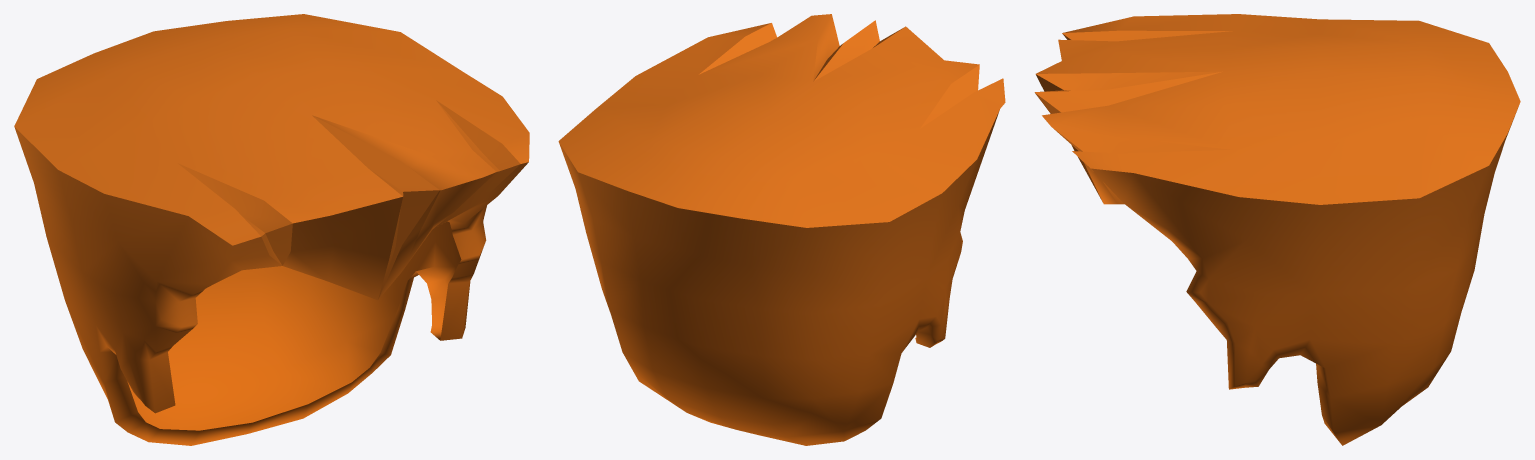
File: Hair_Orange_4.fbx
The picture shows the model from 3 angles, left to right: view 1: azimuth 30°, elevation 25°; view 2: azimuth 150°, elevation 25°; view 3: azimuth 270°, elevation 25°; orthographic projection. The views are drawn at different scales.
Visible parts, largest first — view 1: Hair_Orange_4; view 2: Hair_Orange_4; view 3: Hair_Orange_4.
Part boxes in pixels (x1,y1,x2,y2): Hair_Orange_4: (14, 14, 529, 445); Hair_Orange_4: (558, 14, 1005, 445); Hair_Orange_4: (1034, 14, 1520, 445).
Size of the model in its own units: 62.29 by 53.97 by 68.97.
